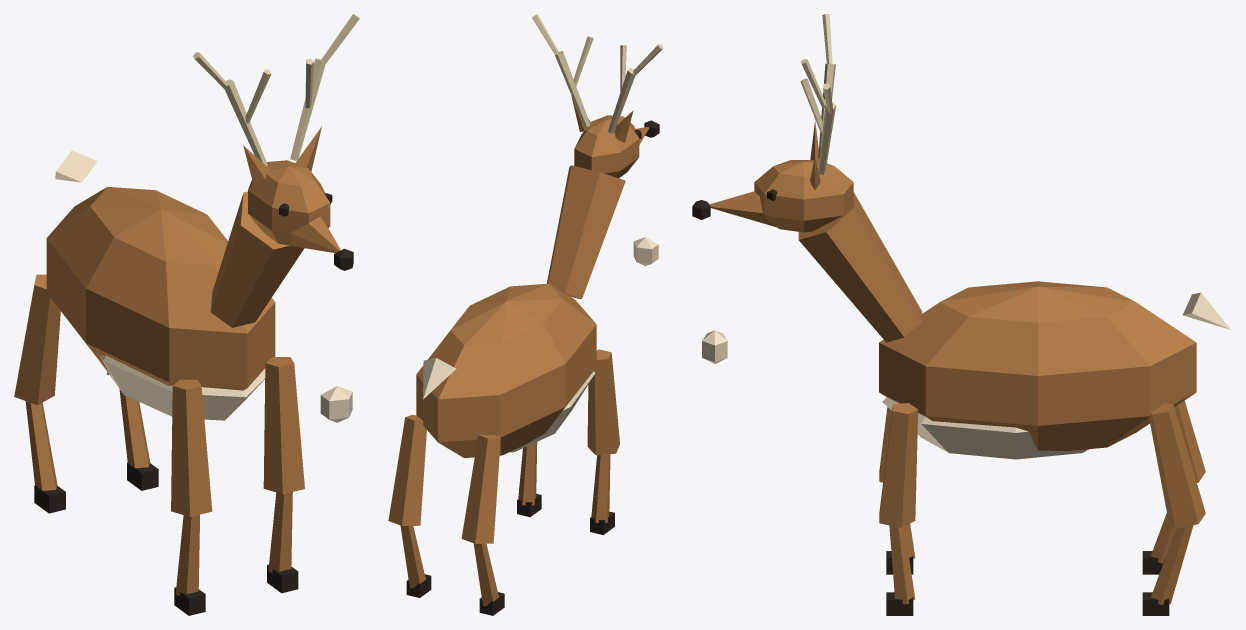
Rendered from deer.glb.
3 views of the same model, side by side, from view 1: azimuth 30°, elevation 25°; view 2: azimuth 150°, elevation 25°; view 3: azimuth 270°, elevation 25° (orthographic). The views are drawn at different scales.
Visible parts, largest first — view 1: deer, head, leg_FR, leg_FL, leg_RR, leg_RL; view 2: deer, head, leg_RR, leg_RL, leg_FR, leg_FL; view 3: deer, head, leg_RL, leg_FL, leg_RR, leg_FR.
Part boxes in pixels (x1,y1,x2,y2): deer: [46, 150, 352, 422]; head: [193, 14, 359, 270]; leg_FR: [171, 379, 212, 615]; leg_FL: [263, 357, 304, 593]; leg_RR: [14, 274, 65, 513]; leg_RL: [107, 372, 158, 490]; deer: [416, 165, 658, 457]; head: [532, 14, 663, 178]; leg_RR: [461, 434, 504, 615]; leg_RL: [388, 415, 431, 597]; leg_FR: [587, 349, 619, 534]; leg_FL: [517, 442, 541, 517]; deer: [702, 192, 1230, 459]; head: [692, 14, 853, 232]; leg_RL: [1142, 403, 1205, 615]; leg_FL: [879, 403, 918, 615]; leg_RR: [1142, 400, 1205, 574]; leg_FR: [879, 407, 915, 574].
Bounding box in the file's own units: 0.7861 × 2.69 × 2.42.
